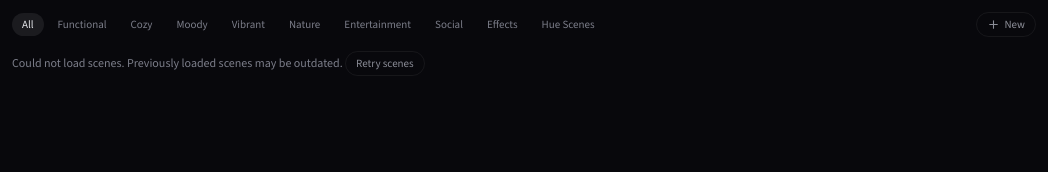
Test: SceneBrowser provenance and fetch states › reports a scene request failure and recovers through a read-only retry
The image size is (1048, 172).
Expected: the message "Could not load scenes. Previously loaded scenes may be outdated. Retry scenes" is shown, [12,51,425,76]
Expected: the text "No scenes returned" is not shown
What coordinates should you click on to do the following:
click the button "Retry scenes"
I would click on:
 (385, 64)
Its box is [345,51,425,76].
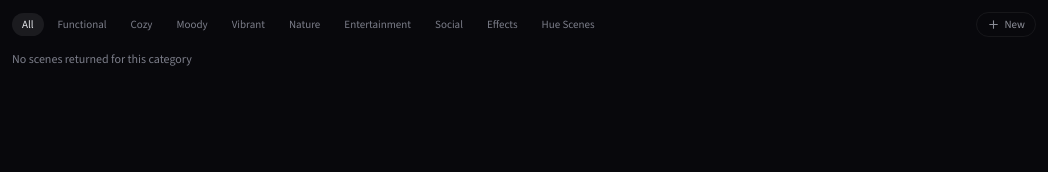
Result: the text "No scenes returned for this category" is shown at [12,47,192,71]
Result: the message "Could not load scenes. Previously loaded scenes may be outdated. Retry scenes" is gone
